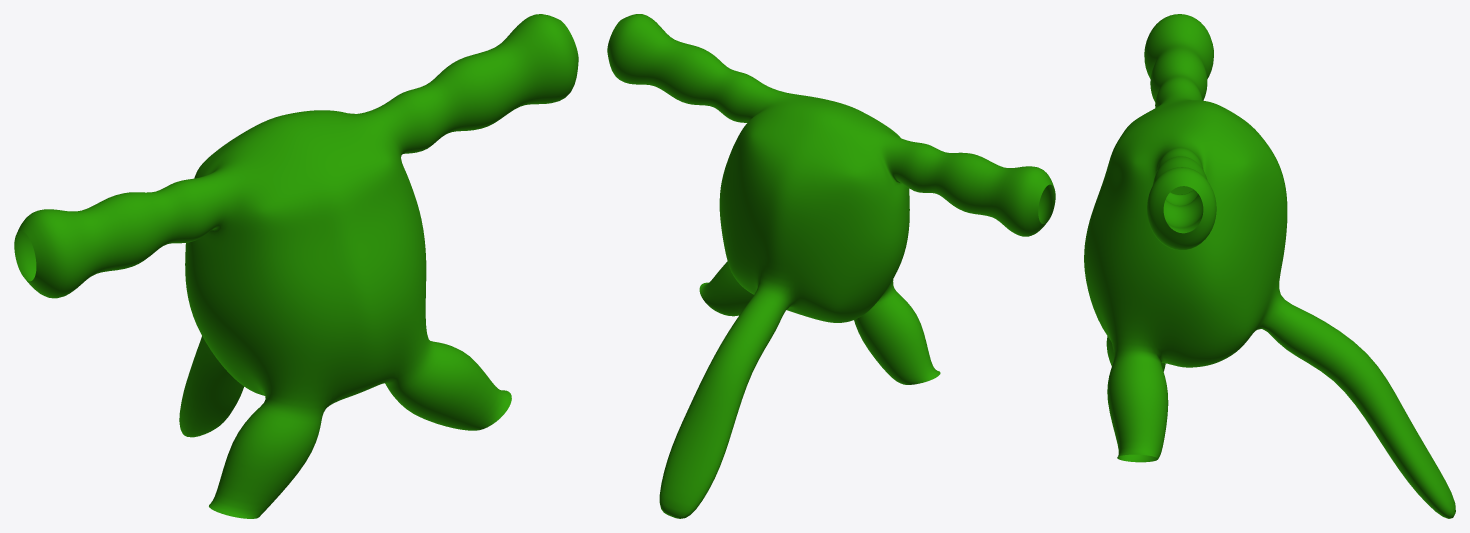
File: corpsSingeVert.gltf
3 renders of one model, left to right at view 1: azimuth 30°, elevation 25°; view 2: azimuth 150°, elevation 25°; view 3: azimuth 270°, elevation 25°, orthographic. The views are drawn at different scales.
Visible parts, largest first — view 1: Roundcube.028; view 2: Roundcube.028; view 3: Roundcube.028.
Boxes of the visible parts, x1=… form: Roundcube.028: x1=14, y1=14, x2=578, y2=518; Roundcube.028: x1=607, y1=14, x2=1055, y2=518; Roundcube.028: x1=1084, y1=14, x2=1455, y2=518.
Size of the model in its own units: 4.27 by 3.56 by 2.76.
